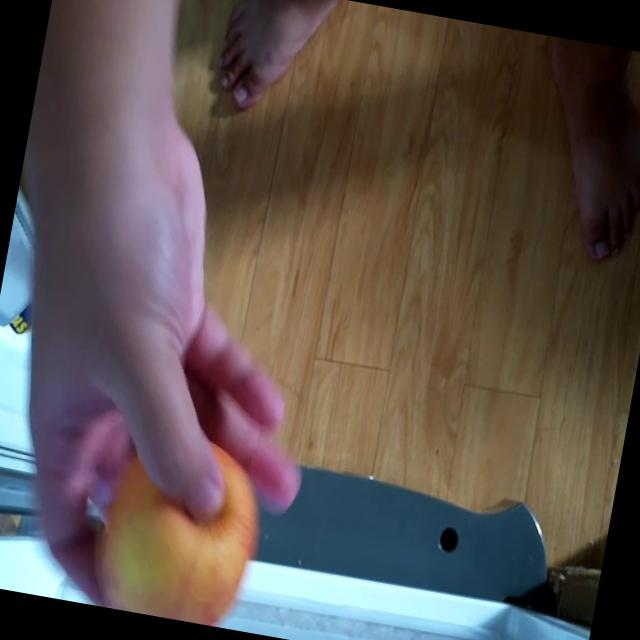apple: (91, 429, 272, 631)
